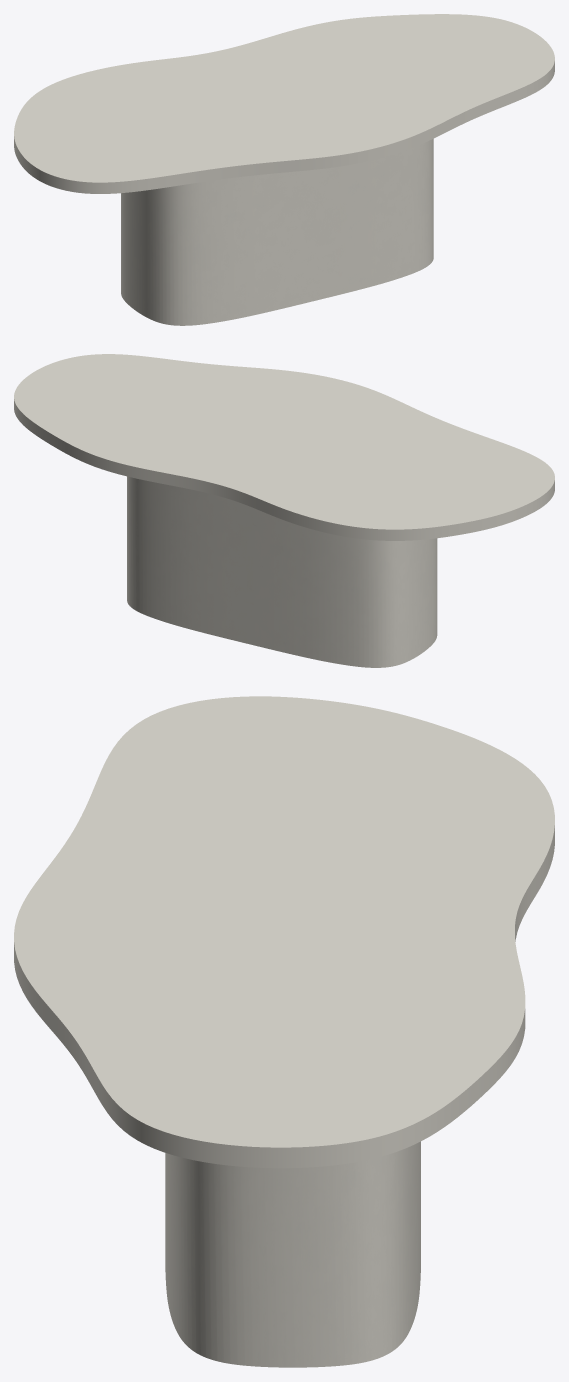
Rendered from pale_toplast_standard_fixed.glb.
3 views of the same model, one above another, from view 1: azimuth 30°, elevation 25°; view 2: azimuth 150°, elevation 25°; view 3: azimuth 270°, elevation 25° (orthographic). The views are drawn at different scales.
Visible parts, largest first — view 1: standard_toplast, fixed; view 2: standard_toplast, fixed; view 3: standard_toplast, fixed.
Part boxes in pixels (x1,y1,x2,y2): standard_toplast: (14, 14, 554, 193); fixed: (121, 139, 433, 325); standard_toplast: (14, 354, 554, 540); fixed: (127, 476, 437, 667); standard_toplast: (14, 696, 554, 1168); fixed: (165, 1141, 420, 1367).
Bounding box in the file's own units: 7.5 × 2.5 × 3.8.
Materials: 1 (1 with a texture image).
